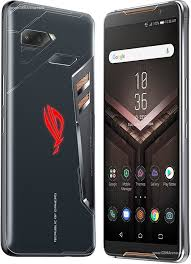asus: (1, 1, 98, 259), (98, 1, 189, 264)
